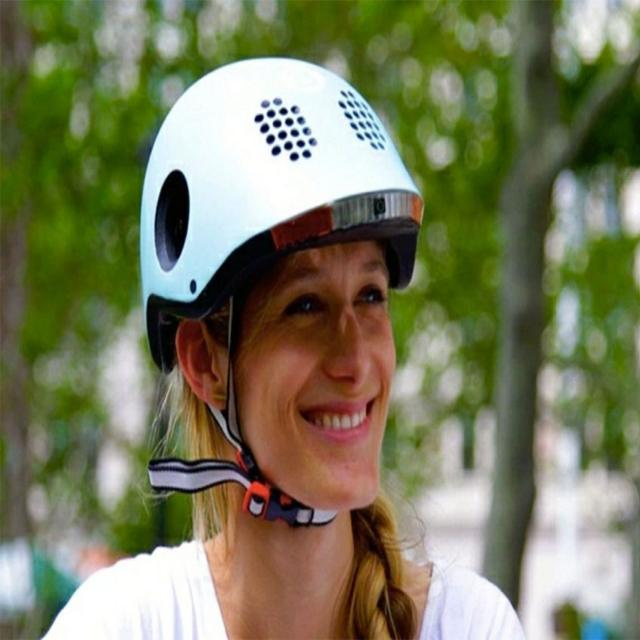Helmet: (138, 53, 427, 513)
